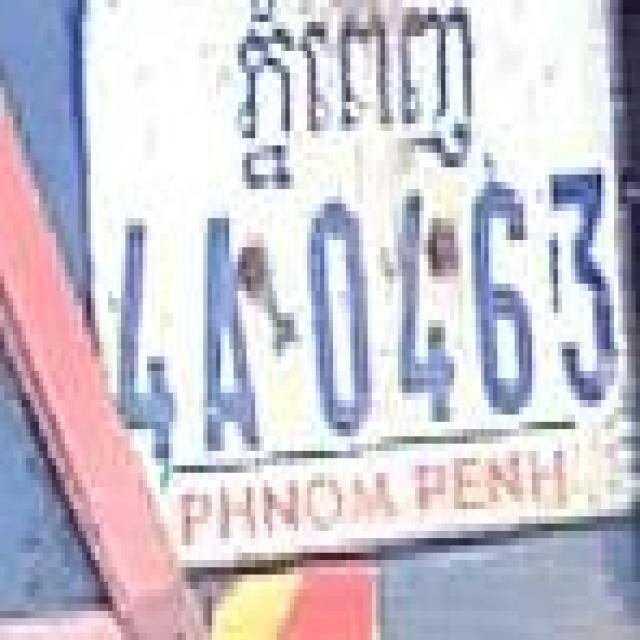Phnom_Penh: (238, 7, 480, 186)
